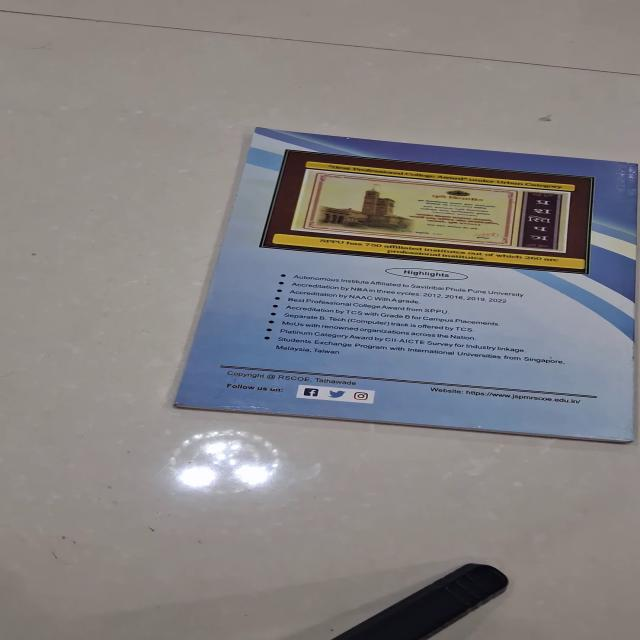paper: (171, 126, 638, 444)
